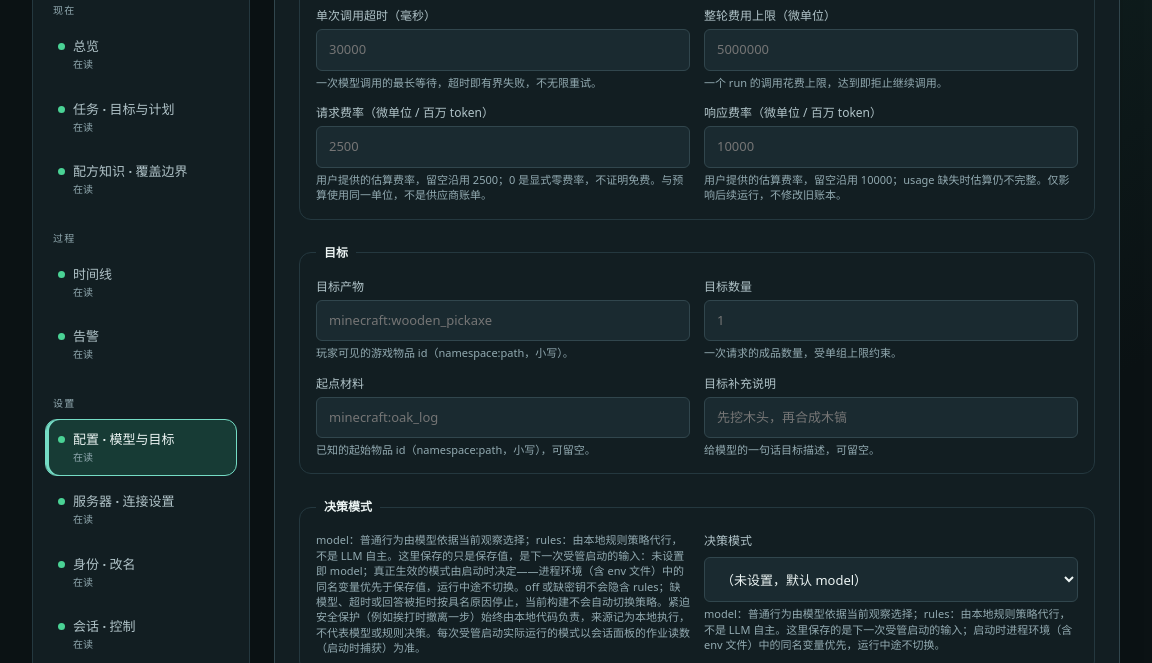
Test: 配置面板：本机先校验，服务器仍是最终裁判 › 非法物品 id 在提交前就被挡住：具名报错且保存按钮禁用
The width and height of the screenshot is (1152, 663).
(page scrolled)
Type "Not A Valid Id" into the field with test id "config-input-goal_product_id".
click(503, 320); type("Not A Valid Id")  # box 316,300 -> 690,341
(page scrolled)
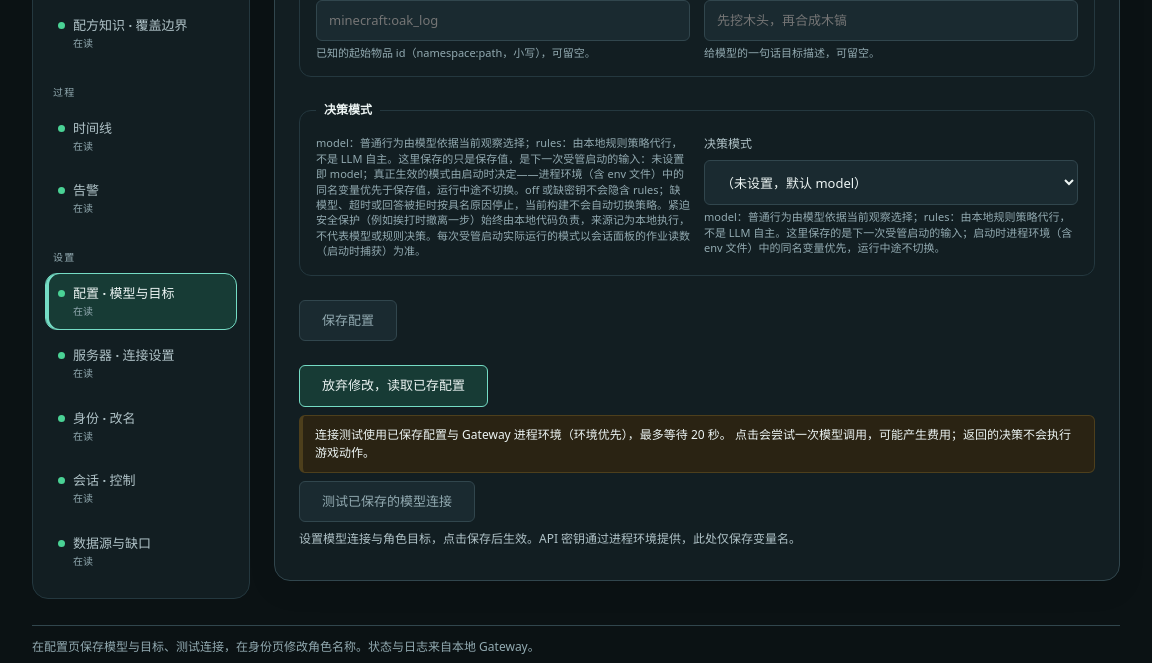
Now the button with test id "config-submit" is disabled, box 299,300 -> 397,341
